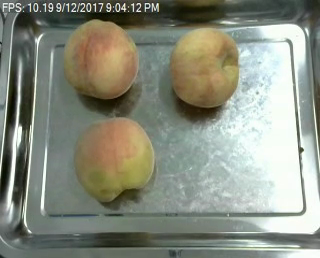Peach: (76, 114, 160, 203), (65, 19, 139, 100), (169, 26, 239, 108)
